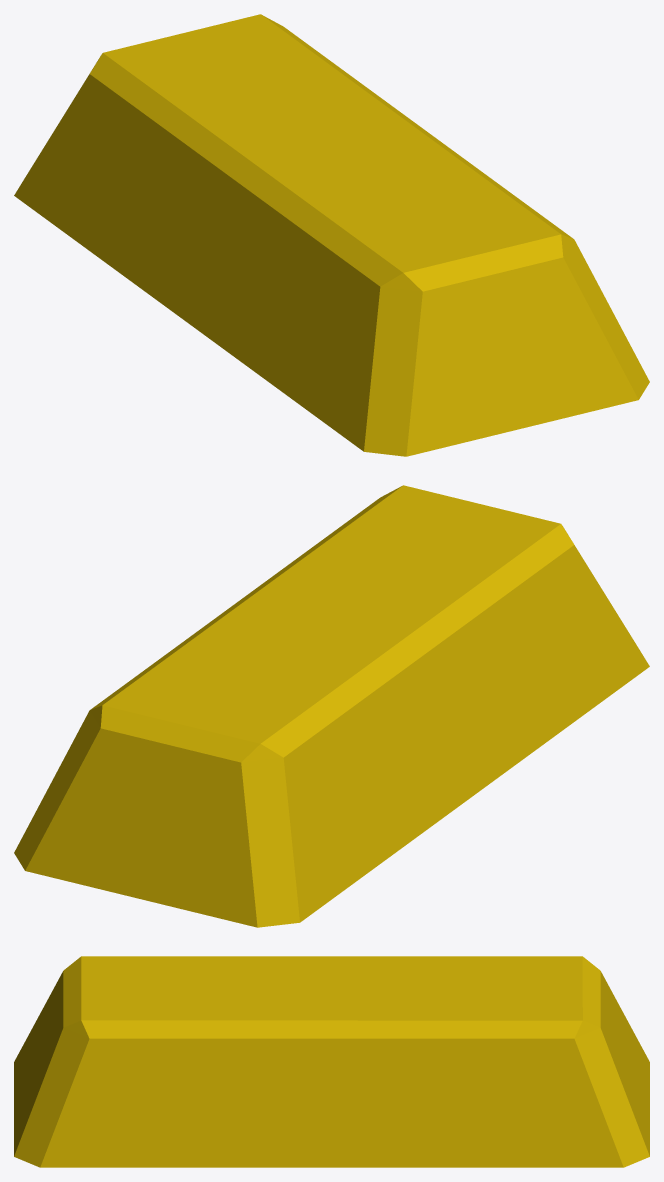
Rendered from goldBrick.fbx.
3 views of the same model, one above another, from view 1: azimuth 30°, elevation 25°; view 2: azimuth 150°, elevation 25°; view 3: azimuth 270°, elevation 25° (orthographic). The views are drawn at different scales.
Visible parts, largest first — view 1: goldBrick; view 2: goldBrick; view 3: goldBrick.
Part boxes in pixels (x1,y1,x2,y2): goldBrick: (14, 14, 649, 456); goldBrick: (14, 485, 649, 927); goldBrick: (14, 956, 649, 1167).
Bounding box in the file's own units: 10 × 4.85 × 23.09.
